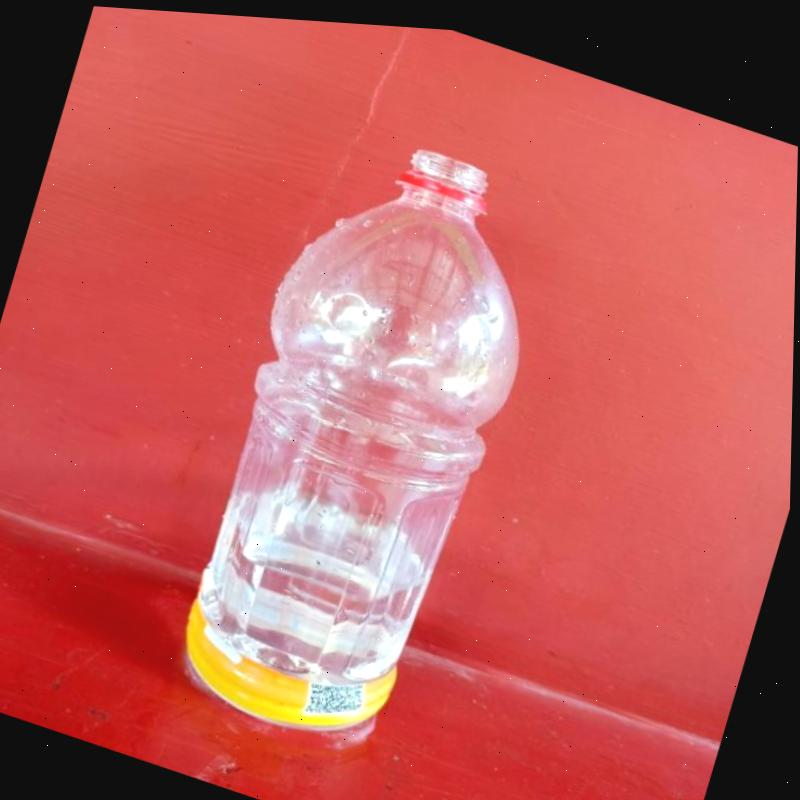botella: (164, 97, 569, 767)
